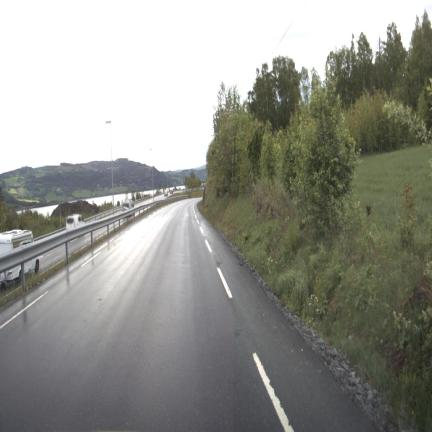Road: (0, 200, 374, 431)
